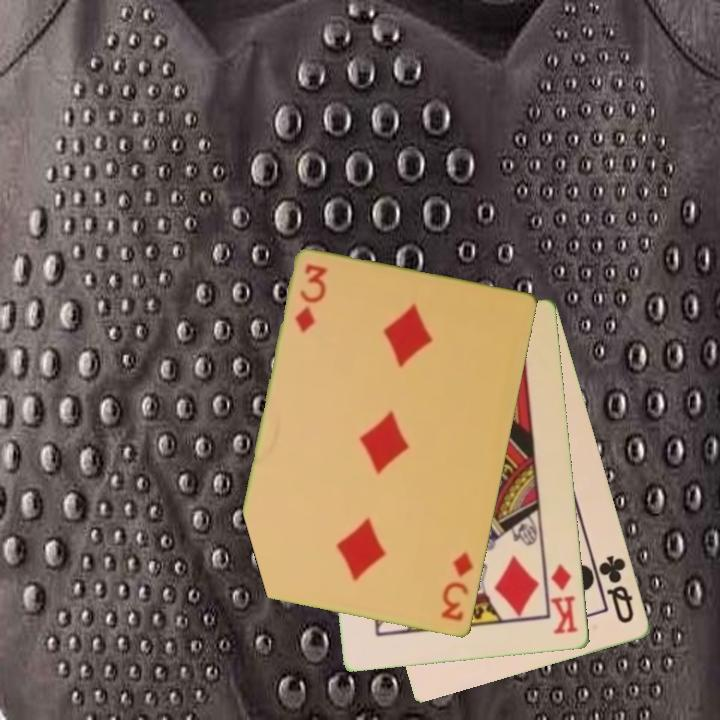3d: (438, 549, 477, 625), (292, 261, 331, 336)
Kd: (548, 560, 581, 637)
Qc: (591, 551, 638, 627)
